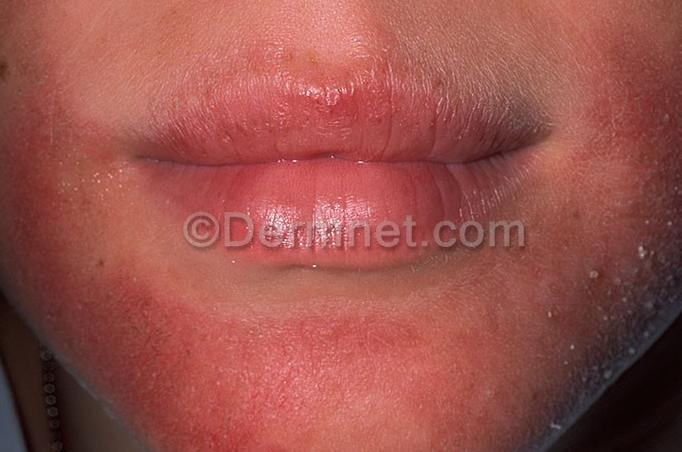Eritema 2: (0, 69, 682, 452)
xerosis 1: (374, 22, 575, 130)
xerosis 2: (542, 171, 682, 447)
